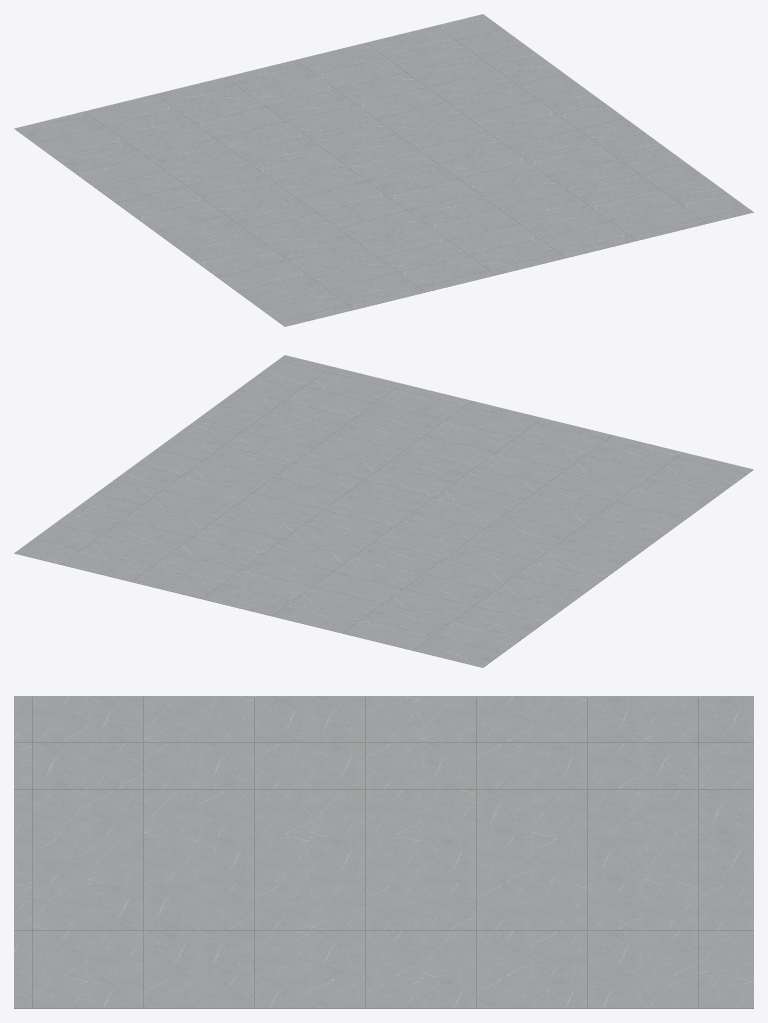
The model's file is aristo-60x120.glb.
3 renders of one model, top to bottom at view 1: azimuth 30°, elevation 25°; view 2: azimuth 150°, elevation 25°; view 3: azimuth 270°, elevation 25°, orthographic. The views are drawn at different scales.
Parts seen in each view (by area): view 1: Aristo; view 2: Aristo; view 3: Aristo.
Boxes of the visible parts, x1,y1,x2,y2 form: Aristo: (14, 14, 753, 326); Aristo: (14, 355, 753, 667); Aristo: (14, 696, 753, 1008).
Bounding box in the file's own units: 8 × 0.003 × 8.
2 materials, 1 textured.
